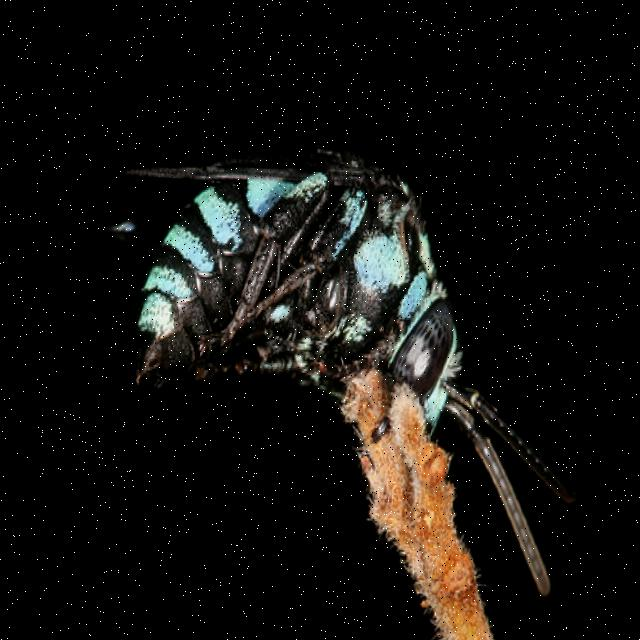Thyreus: (99, 121, 592, 603)
